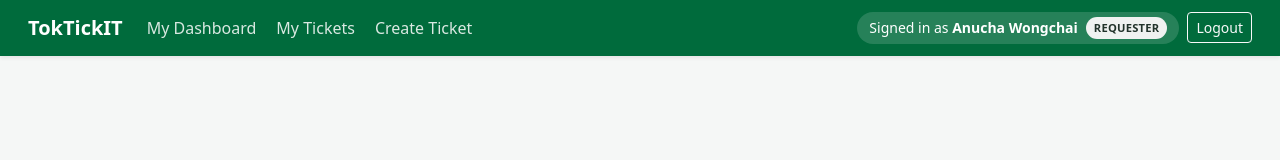
Test: AppHeader Component (Issue #24 adapted for Lab 3, FR-18, FR-19) › shows a retryable message when sign-out fails, without revealing internals
The width and height of the screenshot is (1280, 160).
Click the button with test id "logout-btn" at (1220, 28), box left=1187, top=12, right=1252, bottom=44
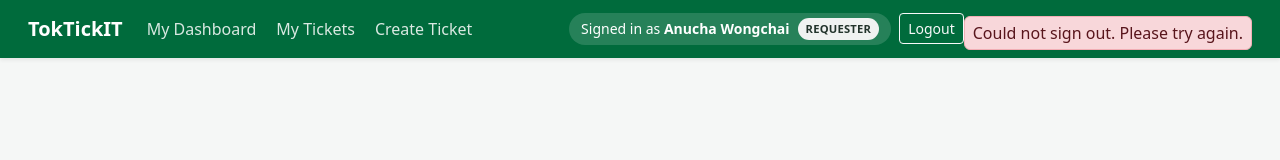
Check: the message "Could not sign out. Please try again." is shown, box left=964, top=16, right=1252, bottom=50
Check: the message with test id "logout-error" shows "Could not sign out", box left=973, top=22, right=1243, bottom=44
Check: the message with test id "logout-error" shows "try again", box left=973, top=22, right=1243, bottom=44
